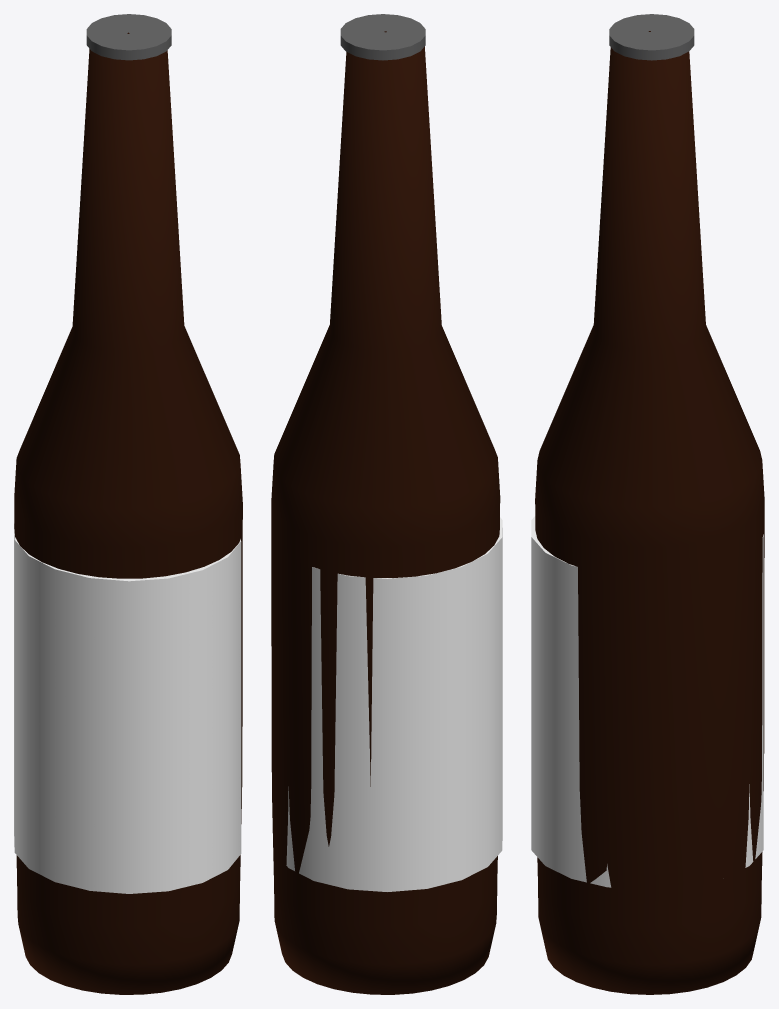
File: Beer Bottle.fbx
3 renders of one model, left to right at view 1: azimuth 30°, elevation 25°; view 2: azimuth 150°, elevation 25°; view 3: azimuth 270°, elevation 25°, orthographic.
Parts seen in each view (by area): view 1: Sphere017, Cylinder032, Cylinder033; view 2: Sphere017, Cylinder032, Cylinder033; view 3: Sphere017, Cylinder032, Cylinder033.
Part boxes in pixels (x1=…): Sphere017: x1=14, y1=32, x2=242, y2=994; Cylinder032: x1=14, y1=523, x2=241, y2=893; Cylinder033: x1=86, y1=14, x2=171, y2=60; Sphere017: x1=271, y1=31, x2=500, y2=994; Cylinder032: x1=286, y1=517, x2=502, y2=891; Cylinder033: x1=340, y1=14, x2=425, y2=60; Sphere017: x1=535, y1=31, x2=764, y2=994; Cylinder032: x1=531, y1=516, x2=763, y2=887; Cylinder033: x1=609, y1=14, x2=694, y2=60.
Size of the model in its own units: 14.63 by 64.2 by 14.74.
